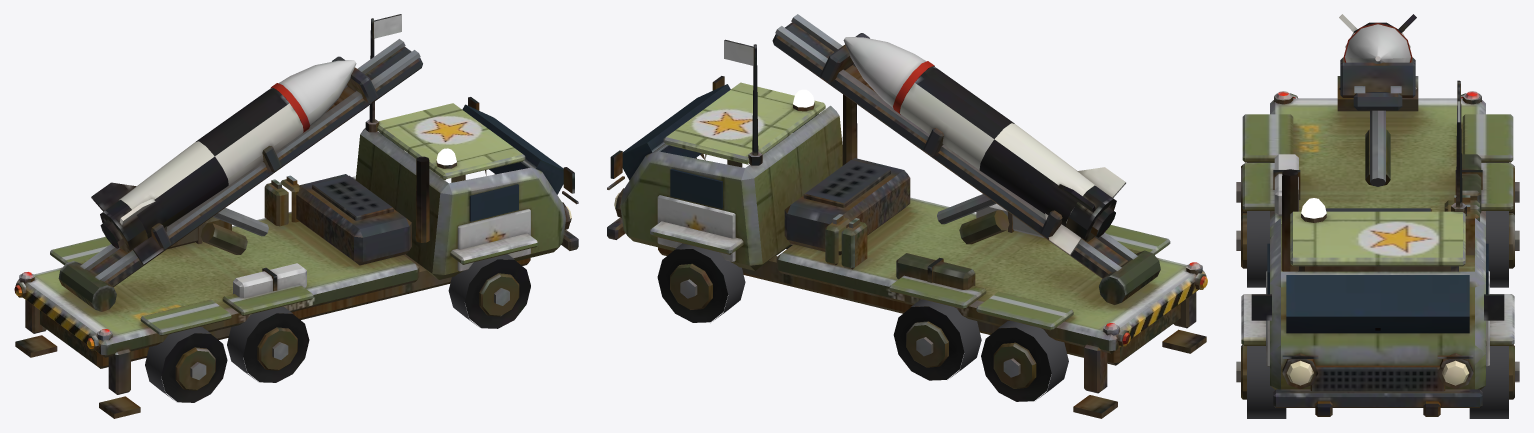
The model's file is v2rl.soviet.glb.
3 views of the same model, side by side, from view 1: azimuth 30°, elevation 25°; view 2: azimuth 150°, elevation 25°; view 3: azimuth 270°, elevation 25° (orthographic). The views are drawn at different scales.
Parts seen in each view (by area): view 1: root_mesh, rocket_mesh, rail_mesh; view 2: root_mesh, rocket_mesh, rail_mesh; view 3: root_mesh, rail_mesh, rocket_mesh.
Boxes of the visible parts, x1,y1,x2,y2 form: root_mesh: (14,14,578,418); rocket_mesh: (91,60,356,265); rail_mesh: (58,39,422,311); root_mesh: (607,39,1207,418); rocket_mesh: (843,37,1125,255); rail_mesh: (772,14,1160,304); root_mesh: (1236,80,1519,418); rail_mesh: (1337,57,1418,186); rocket_mesh: (1339,14,1416,89).
Bounding box in the file's own units: 1.02 × 0.508 × 0.42.
3 materials, 1 textured.
